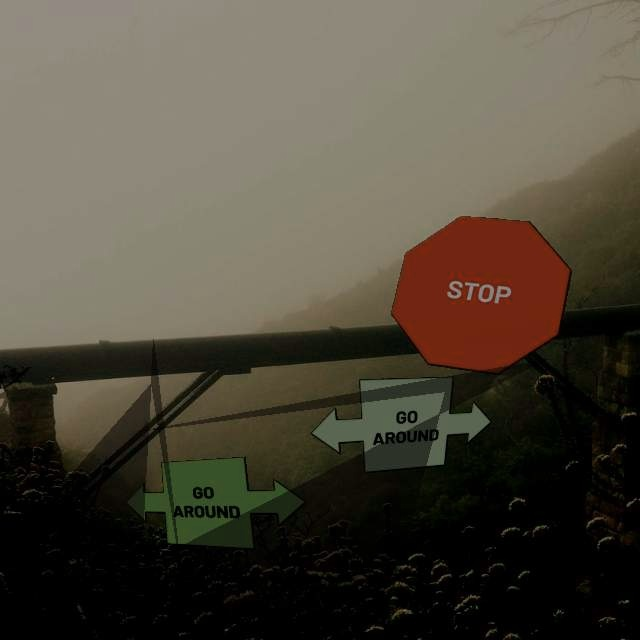GO_AROUND: (310, 376, 492, 473), (125, 456, 307, 550)
STOP: (390, 215, 572, 375)
